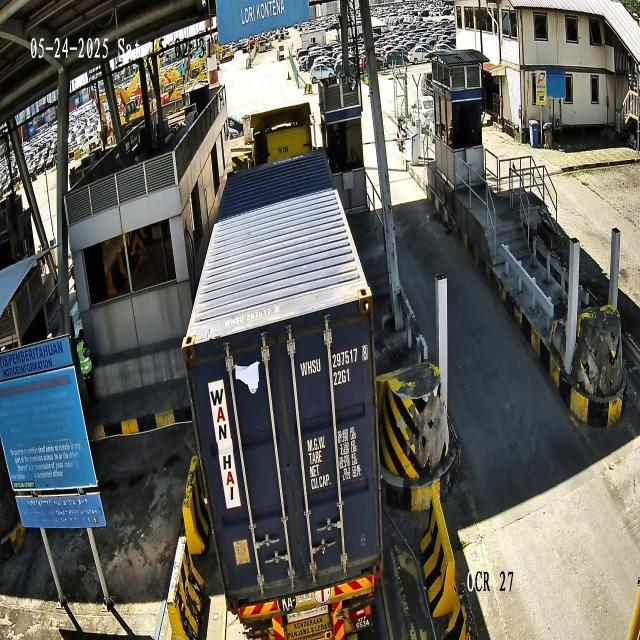ISO: (333, 368, 350, 388)
container_number: (300, 343, 368, 378)
